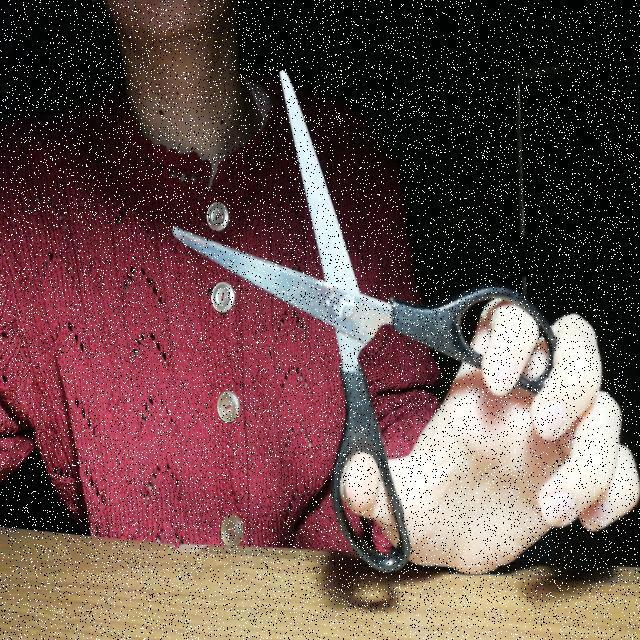scissors: (169, 66, 560, 578)
